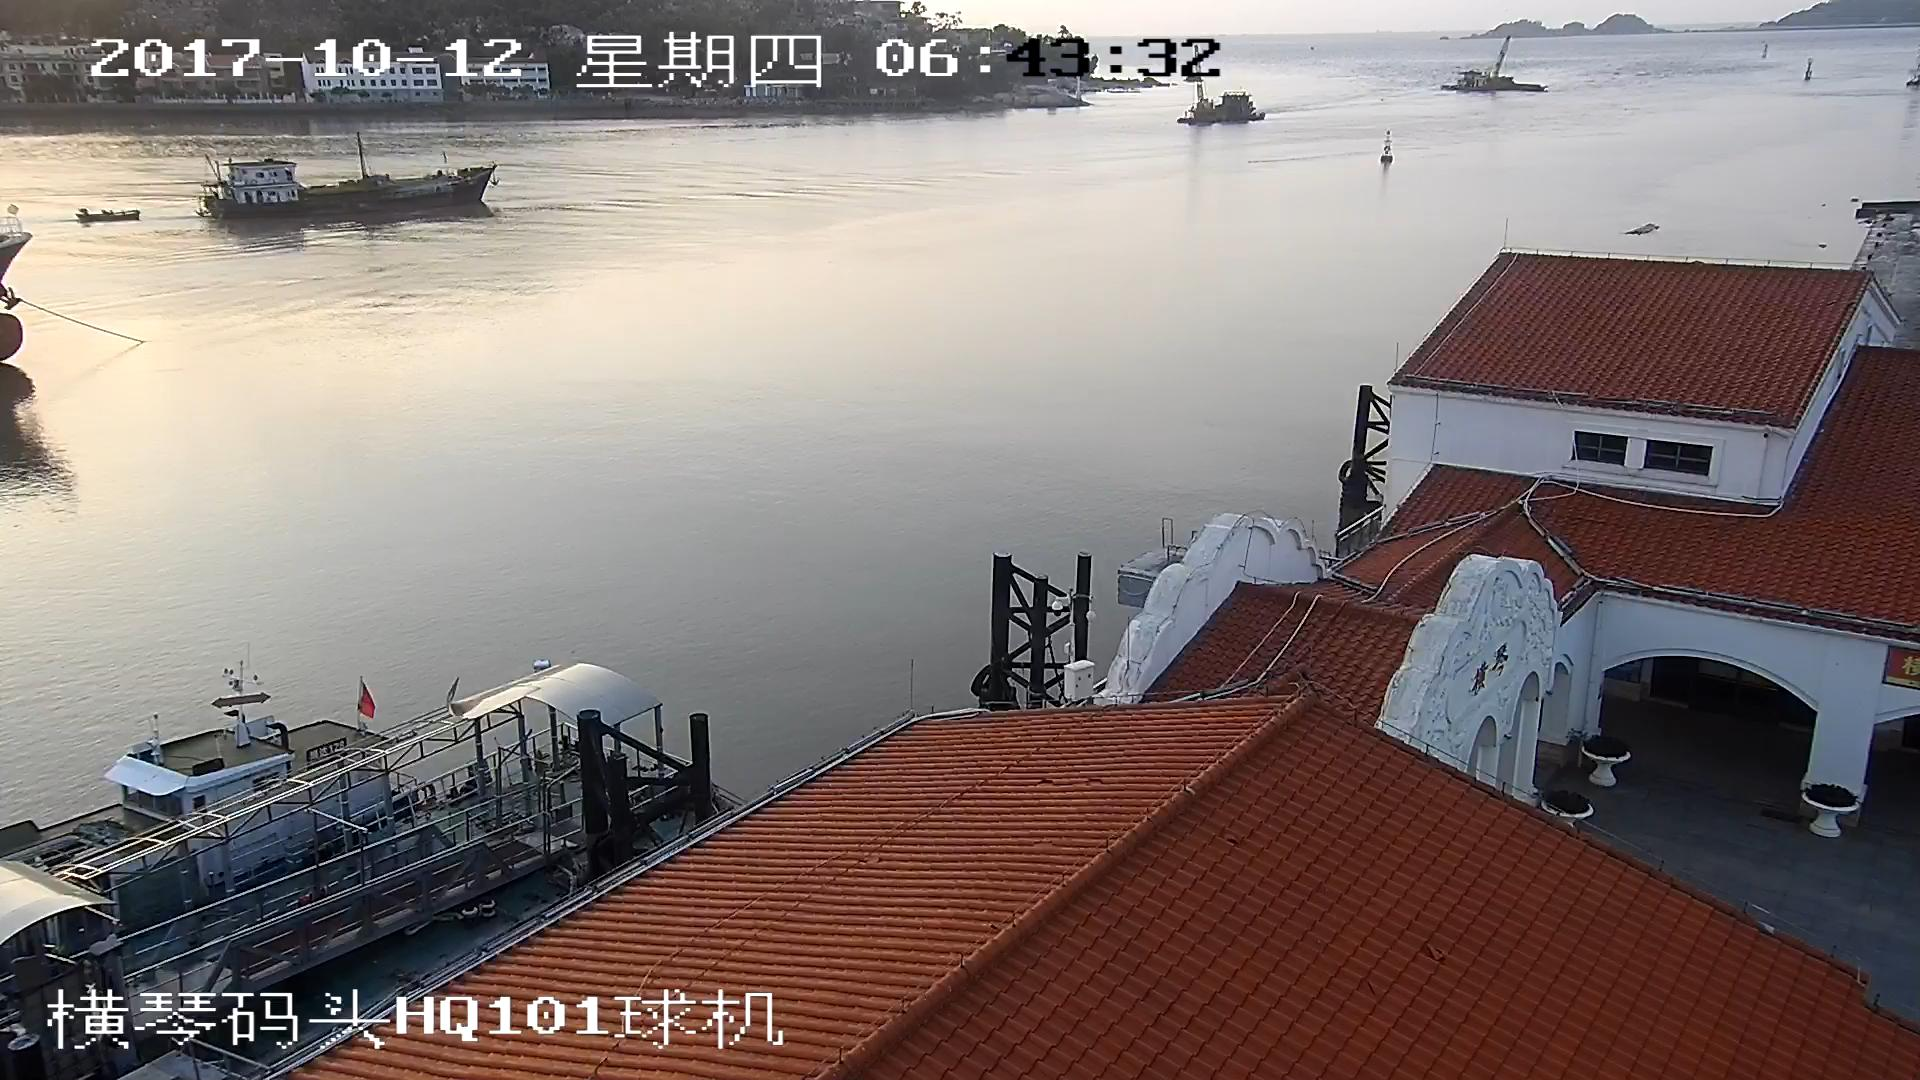fishing boat: (202, 142, 504, 219), (77, 206, 139, 222)
